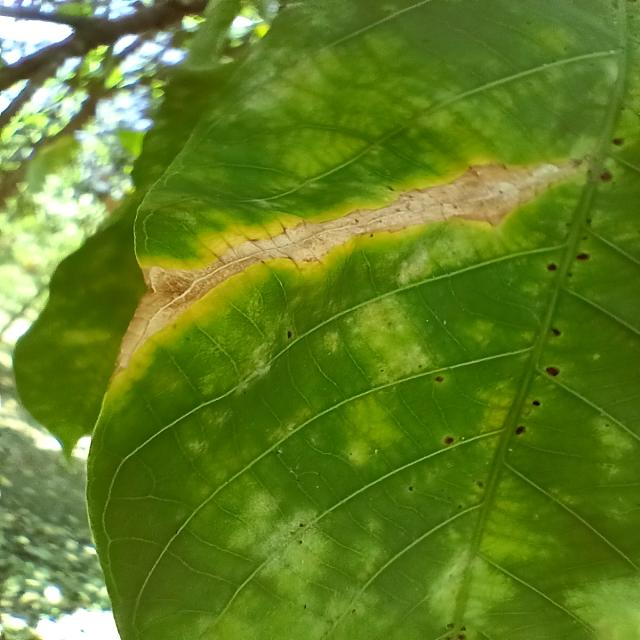Colletotrichum: (598, 170, 612, 184), (546, 366, 560, 377), (514, 425, 527, 436), (444, 435, 456, 446), (576, 252, 590, 260), (434, 374, 444, 384), (552, 327, 562, 337), (547, 262, 557, 272), (612, 138, 624, 146), (532, 400, 541, 408), (286, 330, 293, 339)
Leaf-Blight: (114, 158, 587, 372)
